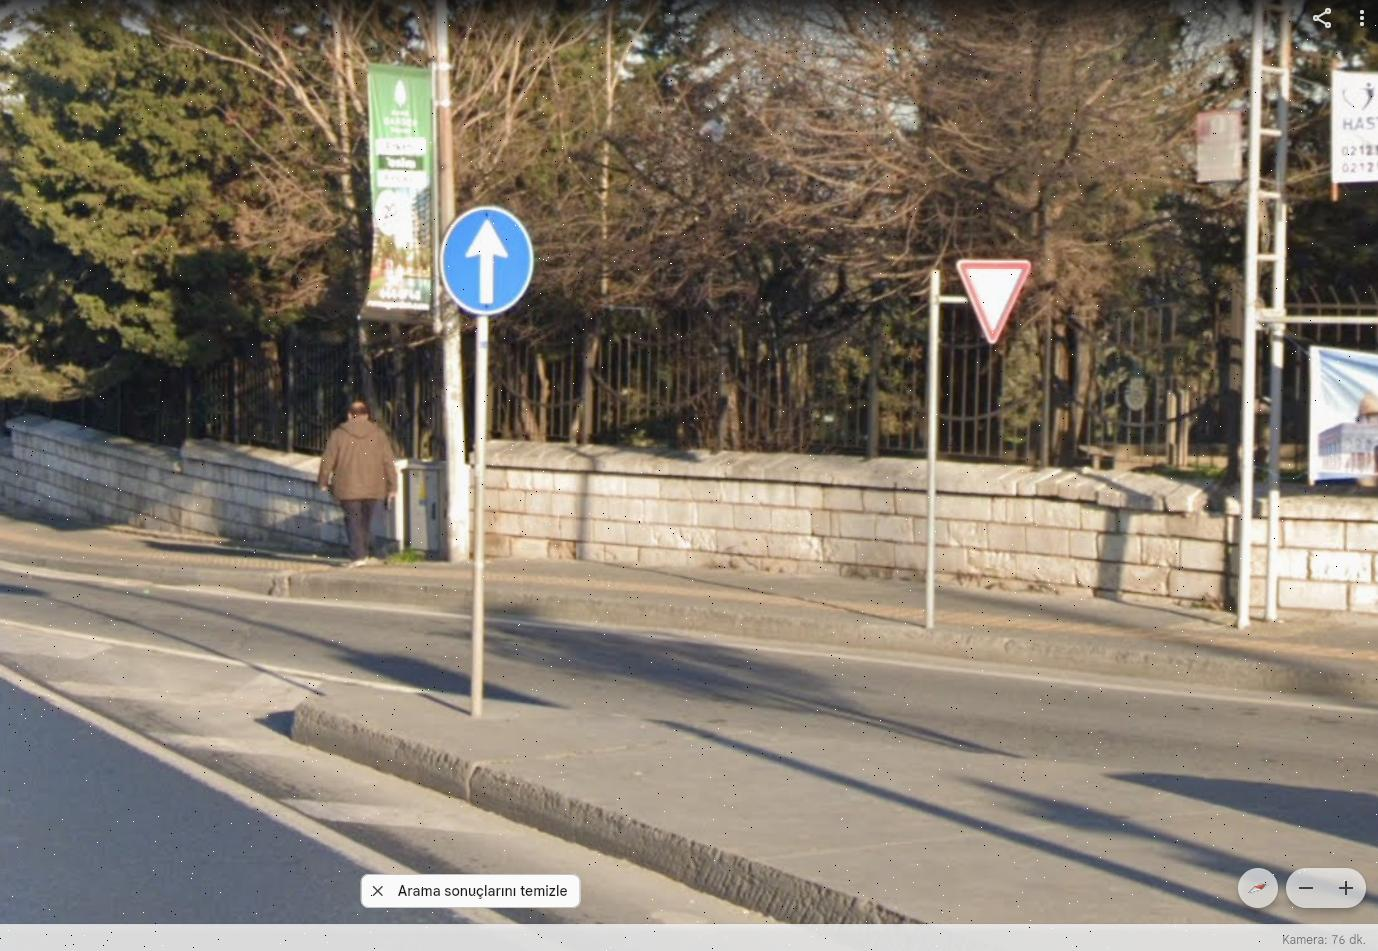forward: (445, 208, 530, 314)
